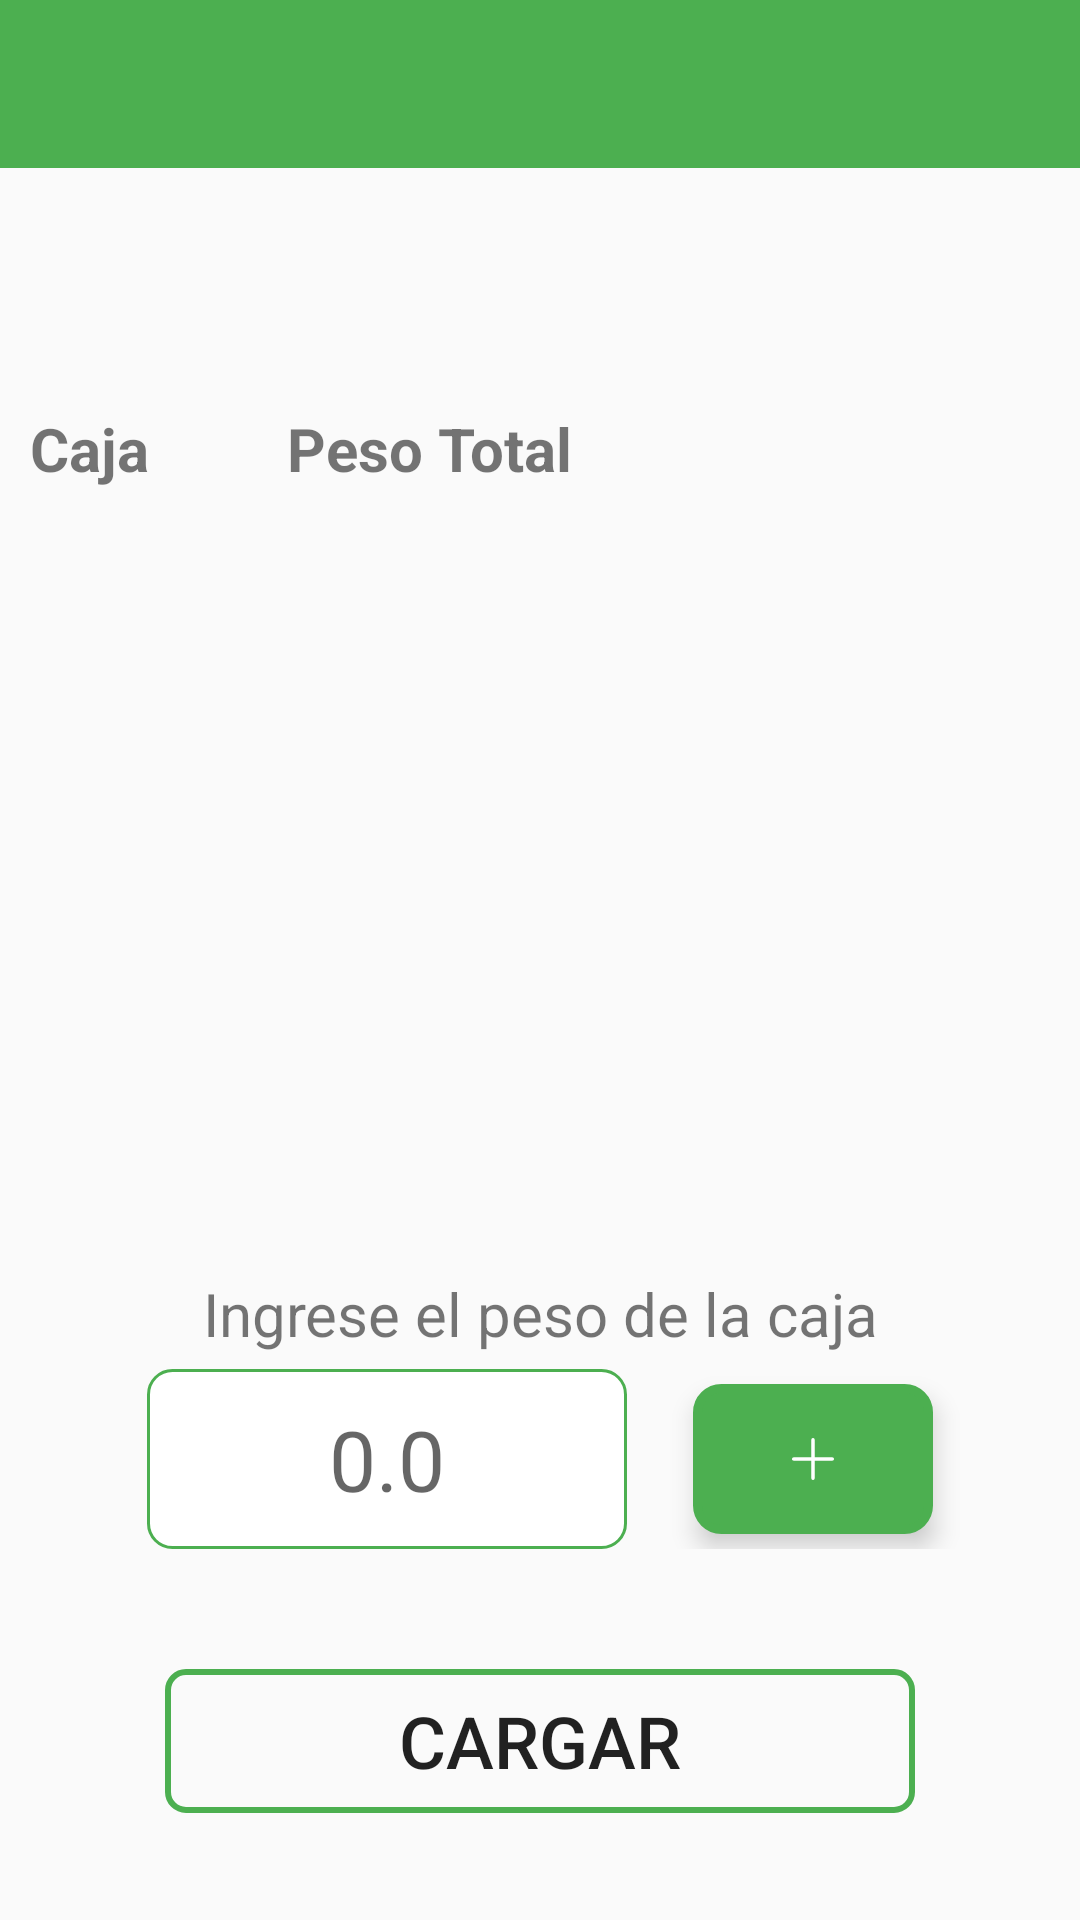

Point at icon controls on the screen. Image size 1080px x 1920px, points as (x=x, y=y).
mas: (x=813, y=1459)
